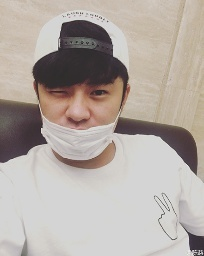incorrectlyWear: (31, 69, 130, 161)
